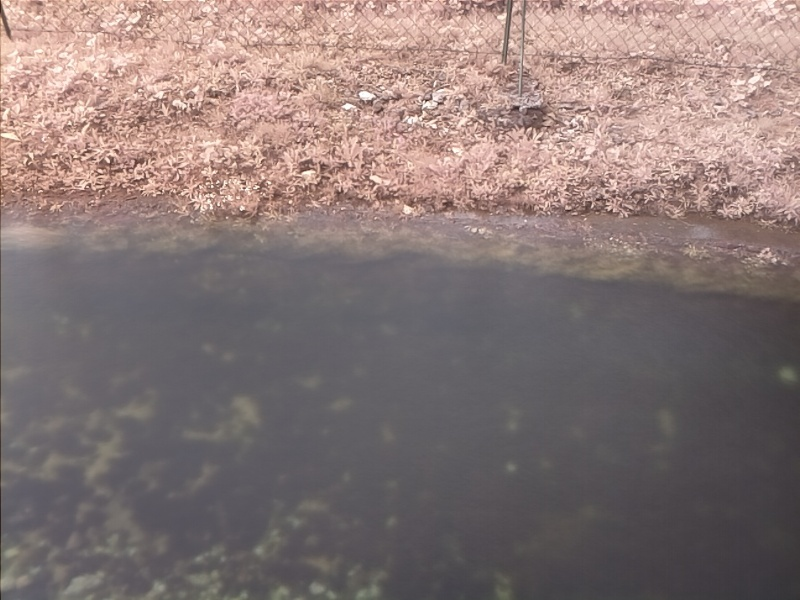Water: (1, 213, 799, 600)
